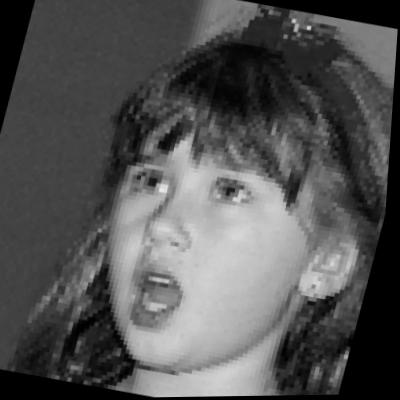surprise: (63, 94, 351, 391)
